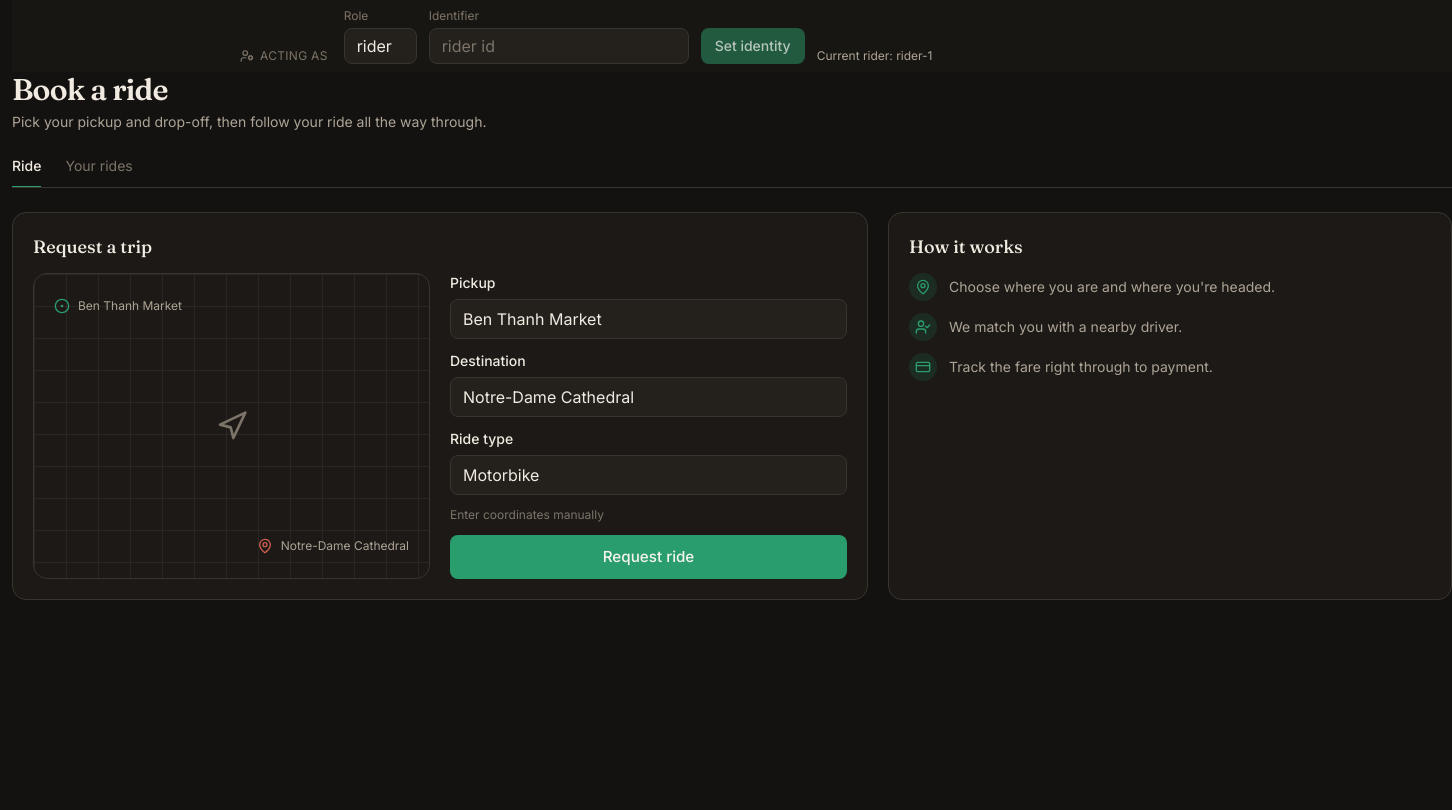
Feature: ridenow-frontend, rider ride journey › cancelling a ride reflects CANCELLED (Req 9.4)
Submit the form named "Request a trip", box [450,273,847,579]
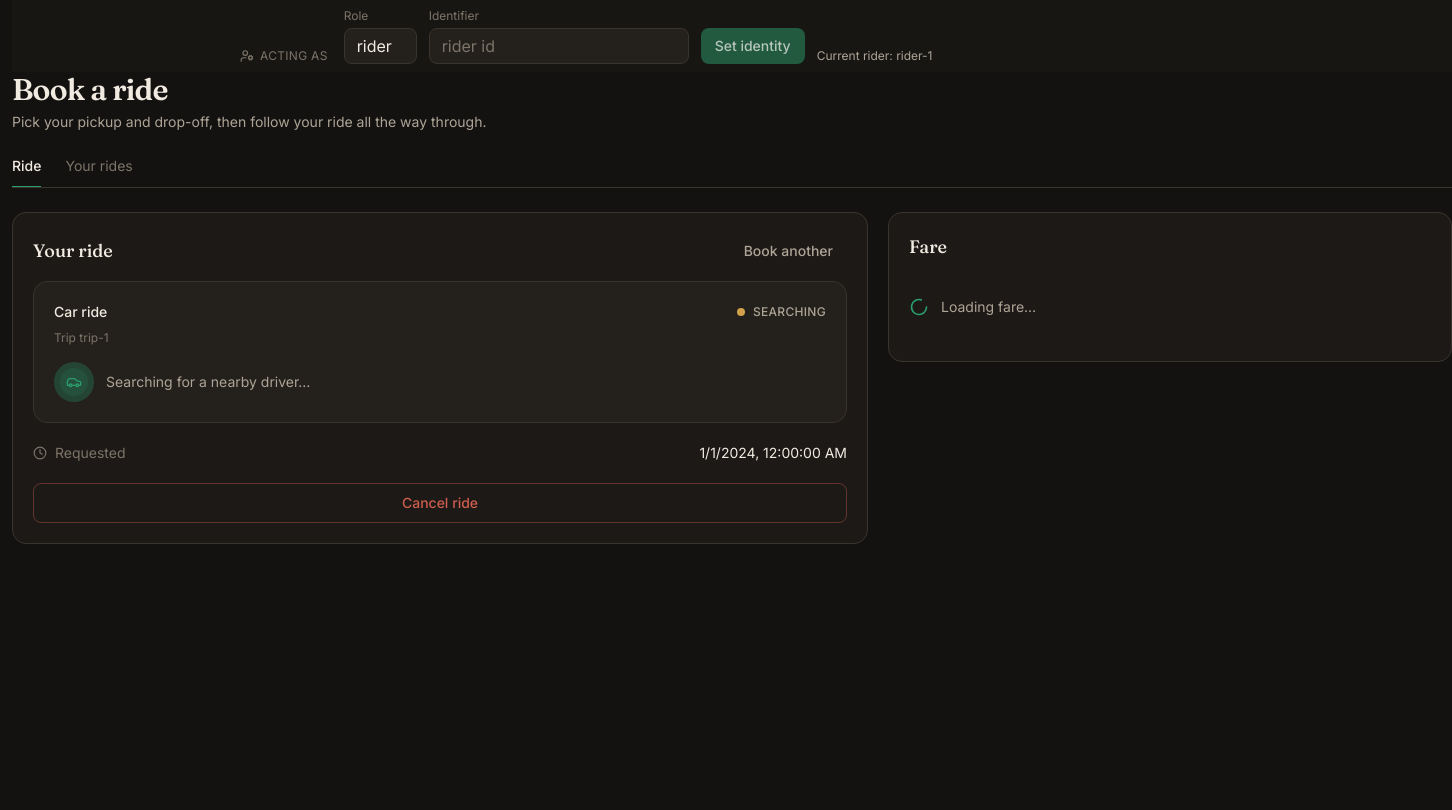
Result: the text "Searching" is shown at [737,304,826,320]
Click the button "Cancel ride" at point(440, 503), box [33,483,847,523]
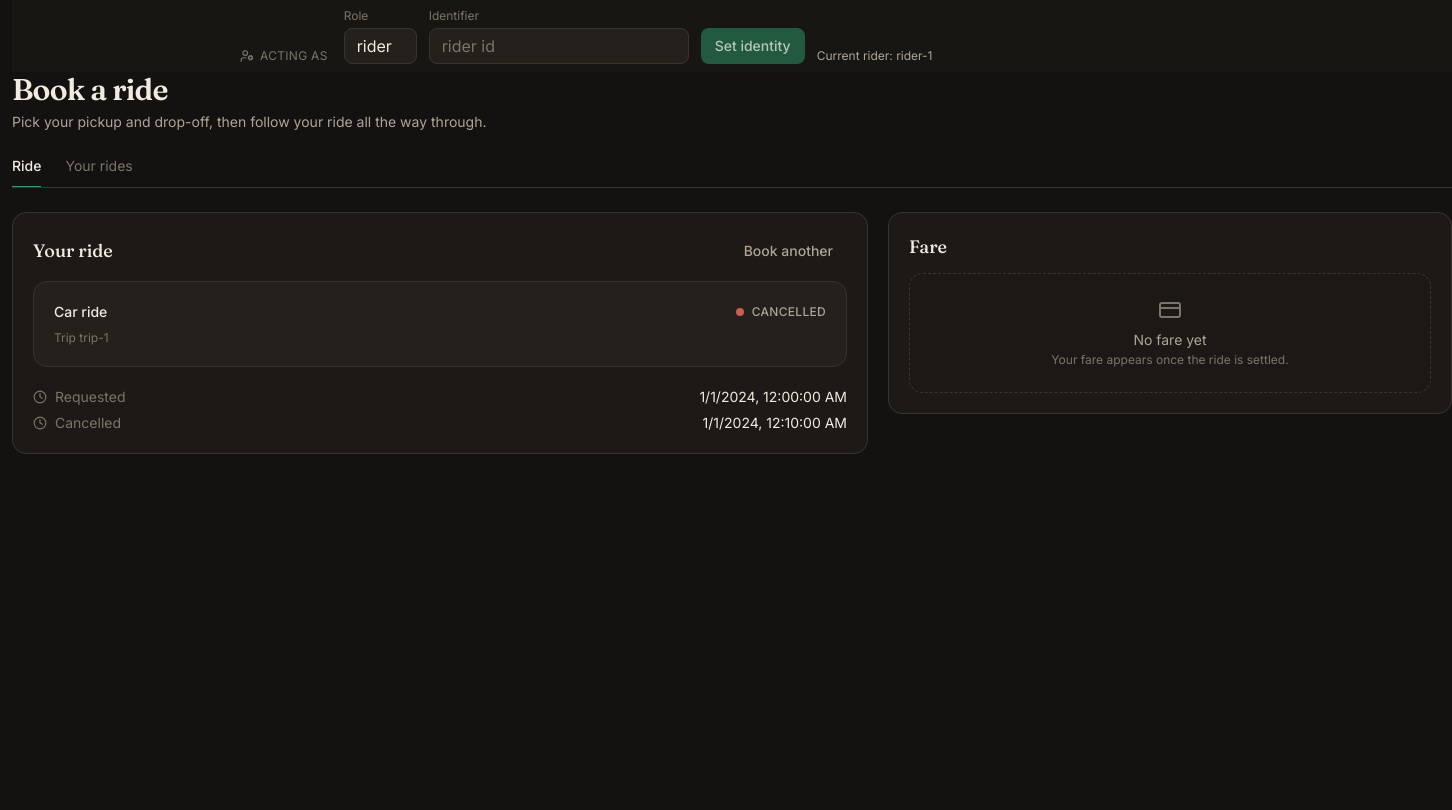
Result: the text "Cancelled" in the row of "Car" is shown at [752,304,826,319]
Result: the button "Cancel ride" is gone
